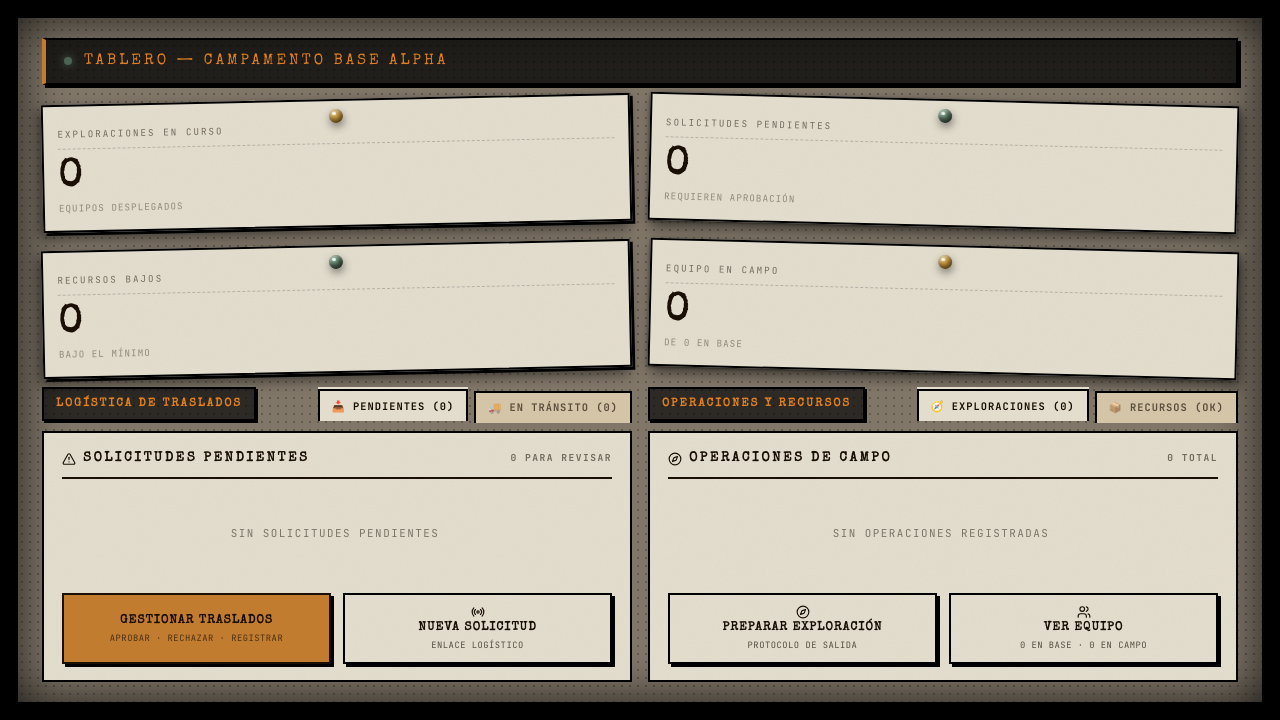
it: TravelDashboard › renders the logistics and operations tabs and handles clicks
Check: the heading "Solicitudes pendientes" is shown, box [666, 116, 1223, 150]
Check: the text "Sin solicitudes pendientes" is shown, box [231, 526, 439, 540]
// Click on Transit tab
Click the button "🚚 EN TRÁNSITO (0)" at (553, 407), box [474, 391, 632, 423]
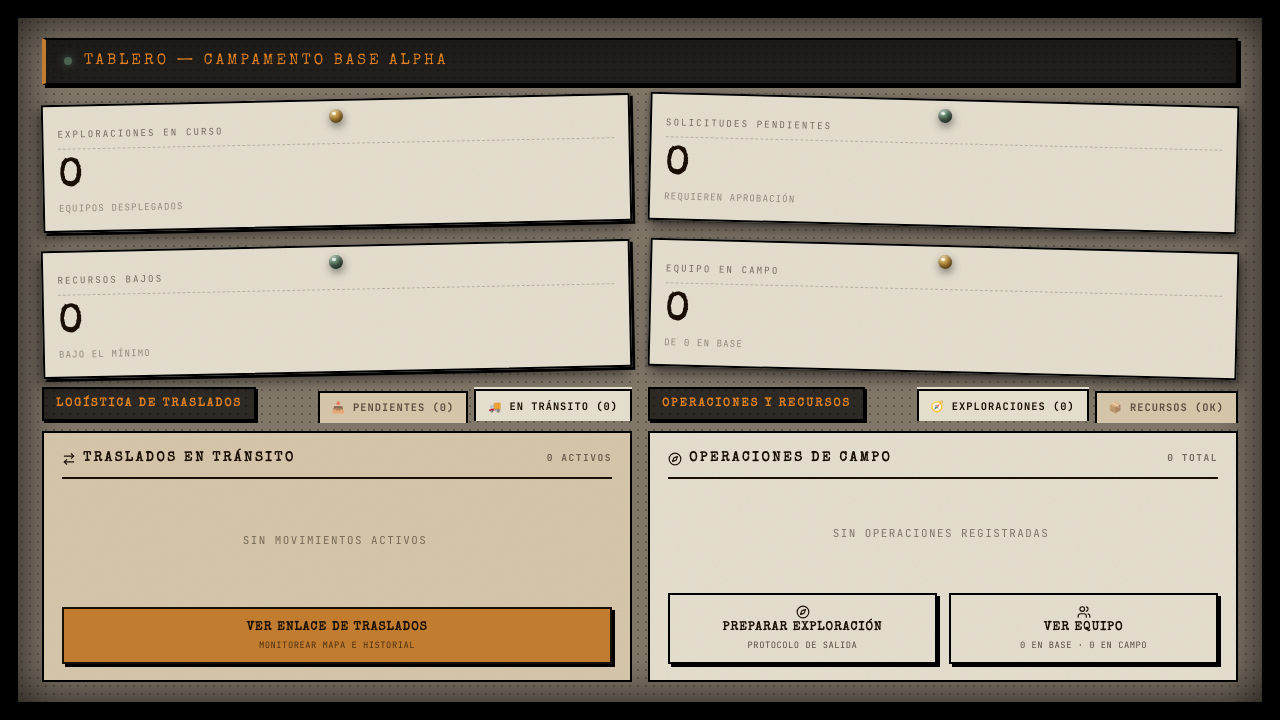
Check: the text "Sin operaciones registradas" is shown, box [833, 526, 1049, 540]
Check: the text "Sin movimientos activos" is shown, box [243, 534, 427, 548]
// Click on Resources tab
Click the button "📦 RECURSOS (OK)" at (1166, 407), box [1095, 391, 1238, 423]
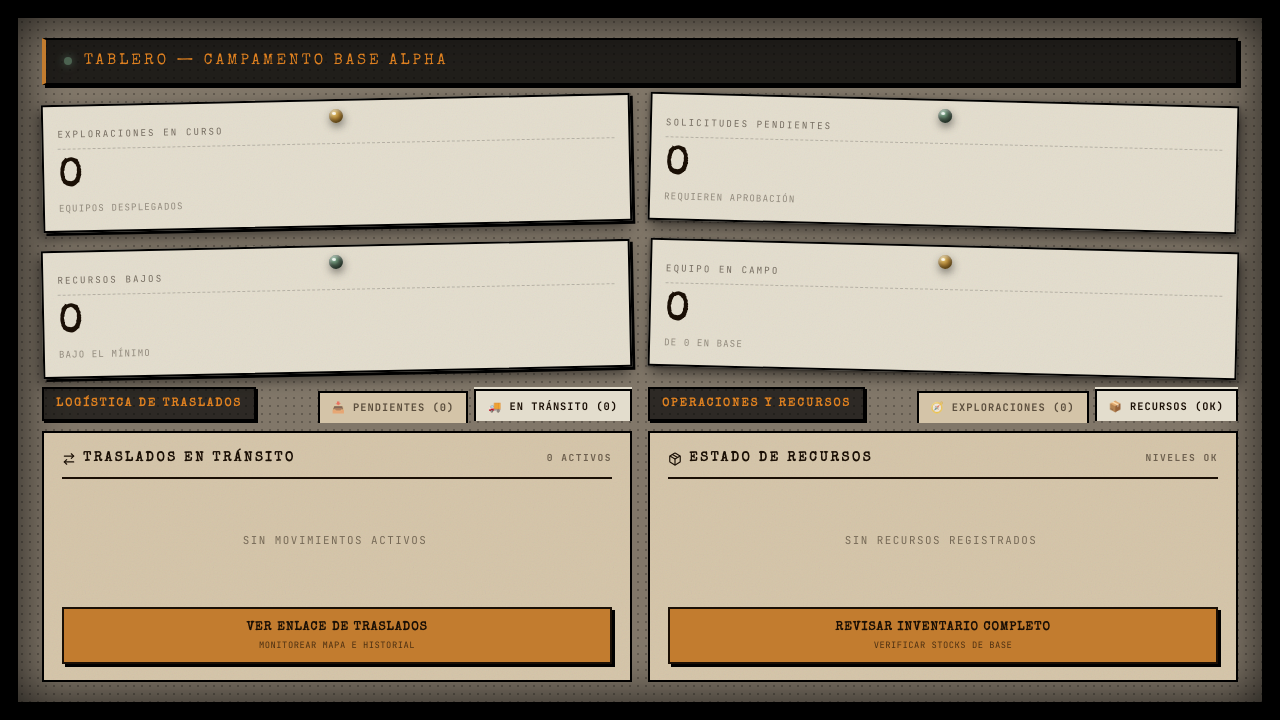
Check: the text "Sin recursos registrados" is shown, box [845, 534, 1037, 548]
